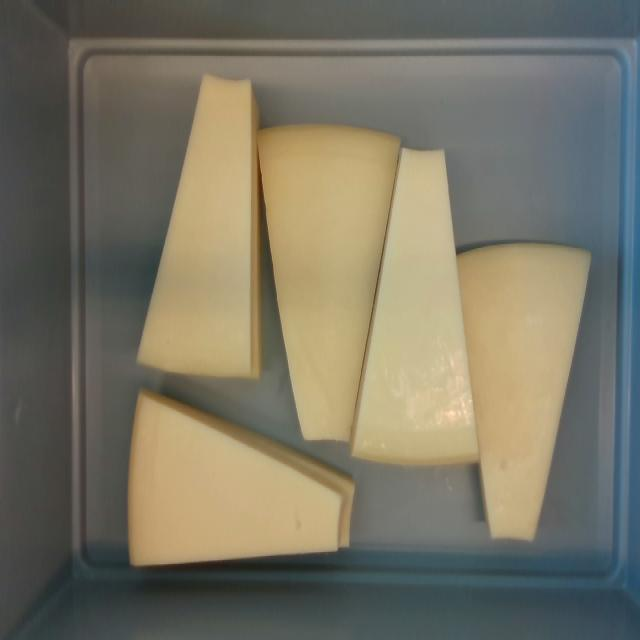cheese: (257, 126, 401, 441), (352, 145, 478, 466), (458, 247, 592, 543), (131, 392, 341, 568), (135, 70, 252, 380)
